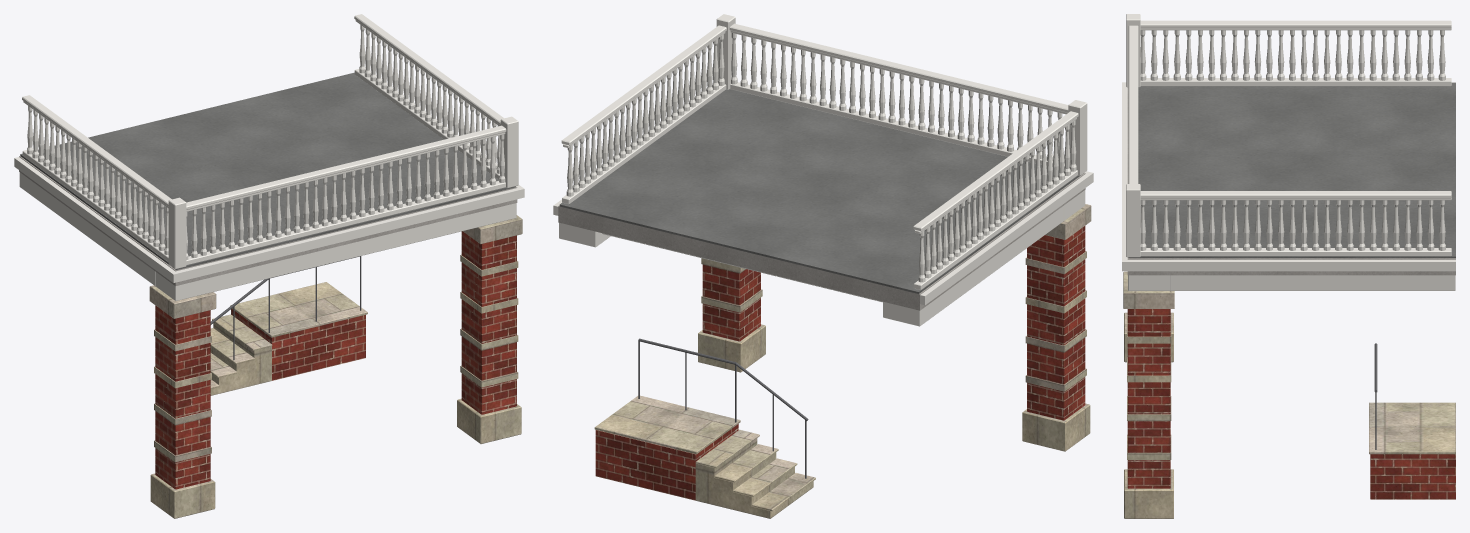
File: porte_cochere.glb
3 views of the same model, side by side, from view 1: azimuth 30°, elevation 25°; view 2: azimuth 150°, elevation 25°; view 3: azimuth 270°, elevation 25° (orthographic). The views are drawn at different scales.
Parts seen in each view (by area): view 1: porte_cochere_trim, porte_cochere_membrane, porte_cochere_brick, porte_cochere_stone_t, porte_cochere_concrete, porte_cochere_iron; view 2: porte_cochere_membrane, porte_cochere_trim, porte_cochere_stone_t, porte_cochere_brick, porte_cochere_concrete, porte_cochere_iron; view 3: porte_cochere_membrane, porte_cochere_trim, porte_cochere_brick, porte_cochere_stone_t, porte_cochere_concrete.
Boxes of the visible parts, x1,y1,x2,y2 form: porte_cochere_trim: [14, 14, 524, 300]; porte_cochere_membrane: [20, 72, 515, 270]; porte_cochere_brick: [155, 231, 516, 489]; porte_cochere_stone_t: [149, 215, 522, 518]; porte_cochere_concrete: [19, 156, 517, 285]; porte_cochere_iron: [210, 256, 361, 360]; porte_cochere_membrane: [559, 89, 1083, 293]; porte_cochere_trim: [553, 14, 1093, 326]; porte_cochere_stone_t: [594, 204, 1091, 518]; porte_cochere_brick: [595, 226, 1085, 500]; porte_cochere_concrete: [558, 173, 1085, 310]; porte_cochere_iron: [638, 338, 808, 478]; porte_cochere_membrane: [1128, 82, 1455, 258]; porte_cochere_trim: [1122, 14, 1455, 290]; porte_cochere_brick: [1127, 309, 1455, 499]; porte_cochere_stone_t: [1123, 271, 1455, 518]; porte_cochere_concrete: [1127, 87, 1455, 275].
Size of the model in its own units: 5.96 by 5.08 by 4.68.
Materials: 7 (4 with a texture image).
